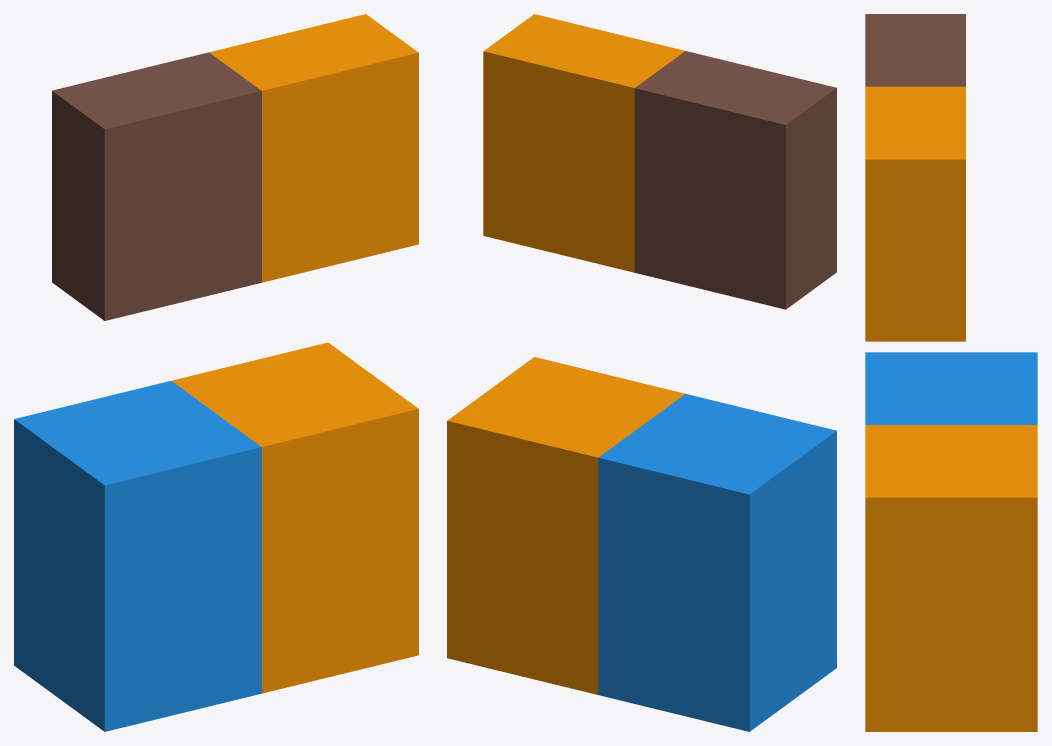
Rendered from test_layout.obj.
The picture shows the model from 3 angles, left to right: view 1: azimuth 30°, elevation 25°; view 2: azimuth 150°, elevation 25°; view 3: azimuth 270°, elevation 25°; orthographic projection. The views are drawn at different scales.
Visible parts, largest first — view 1: sink_0, stove_1, upper_cabinet_2, hood_3; view 2: sink_0, stove_1, upper_cabinet_2, hood_3; view 3: stove_1, hood_3, sink_0, upper_cabinet_2.
Part boxes in pixels (x1,y1,x2,y2): sink_0: [14, 381, 261, 731]; stove_1: [171, 342, 418, 693]; upper_cabinet_2: [52, 52, 261, 320]; hood_3: [209, 14, 418, 282]; sink_0: [598, 394, 836, 731]; stove_1: [447, 357, 685, 694]; upper_cabinet_2: [634, 51, 836, 309]; hood_3: [483, 14, 684, 272]; stove_1: [865, 425, 1037, 731]; hood_3: [865, 86, 965, 341]; sink_0: [865, 352, 1037, 424]; upper_cabinet_2: [865, 14, 965, 86].
Bounding box in the file's own units: 120 × 220 × 60.
